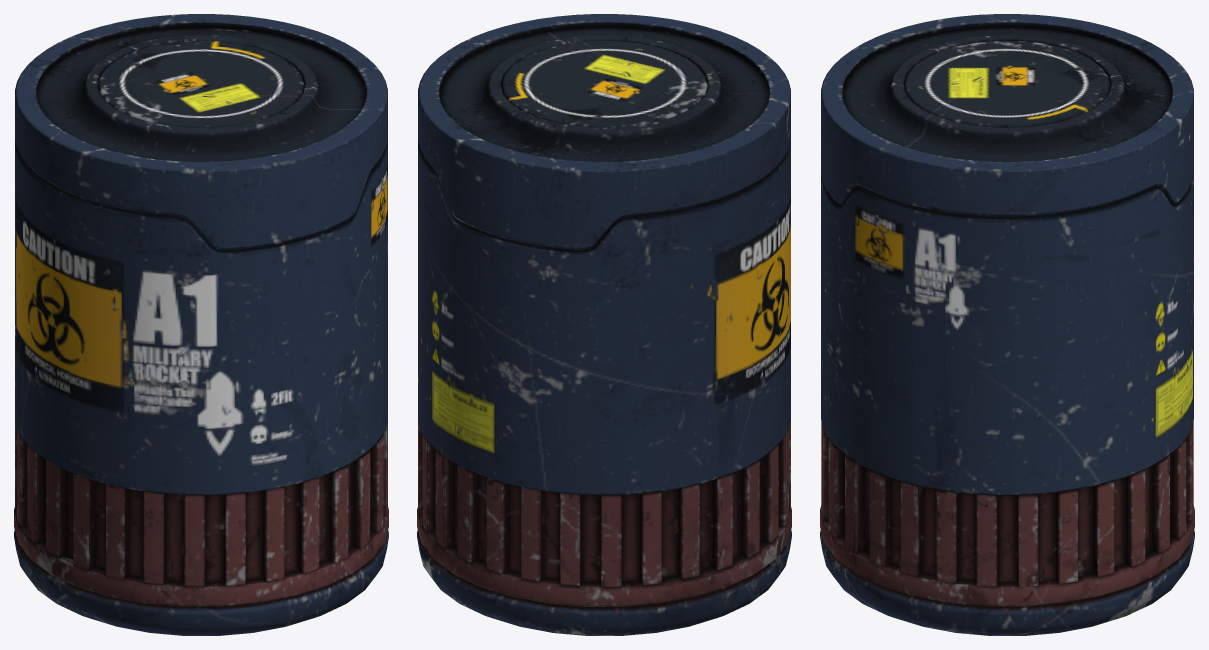
The model's file is SM_Canister01.fbx.
The picture shows the model from 3 angles, left to right: view 1: azimuth 30°, elevation 25°; view 2: azimuth 150°, elevation 25°; view 3: azimuth 270°, elevation 25°; orthographic projection.
Parts seen in each view (by area): view 1: SM_Canister01_LOD0; view 2: SM_Canister01_LOD0; view 3: SM_Canister01_LOD0.
Part boxes in pixels (<box>): SM_Canister01_LOD0: <box>14,14,388,635</box>; SM_Canister01_LOD0: <box>417,14,791,635</box>; SM_Canister01_LOD0: <box>820,14,1194,635</box>.
Size of the model in its own units: 29.52 by 29.68 by 42.25.
1 material, 1 textured.
